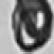correct: (11, 0, 53, 52)
